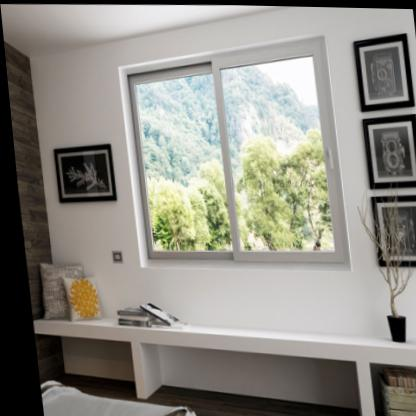Frame: (352, 32, 413, 110), (359, 112, 416, 187), (50, 143, 112, 202), (366, 193, 416, 263)
Window: (115, 35, 345, 272)
